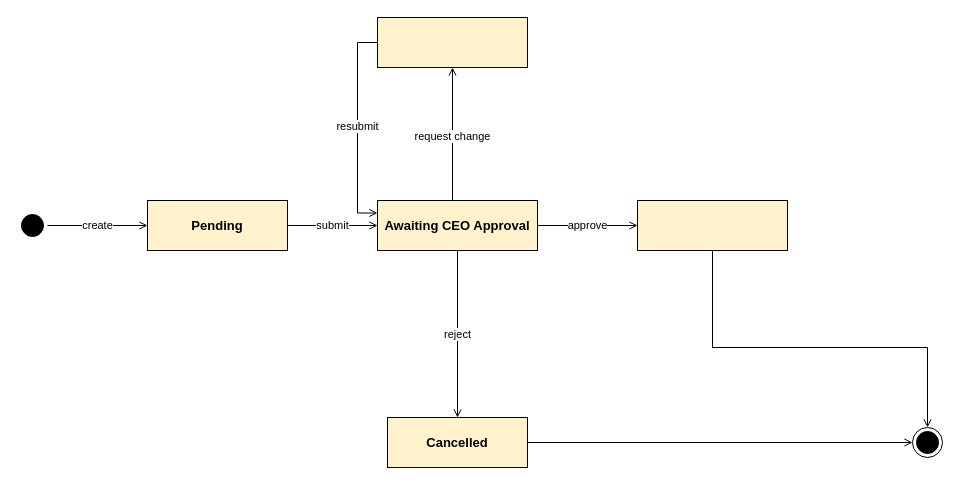
Image size: 960x485. Some labels were removed from this diagram. The centre of each missing label's shape, as x and y in pixels:
Approved: the point at 712,225
Request Edit: the point at 452,42
